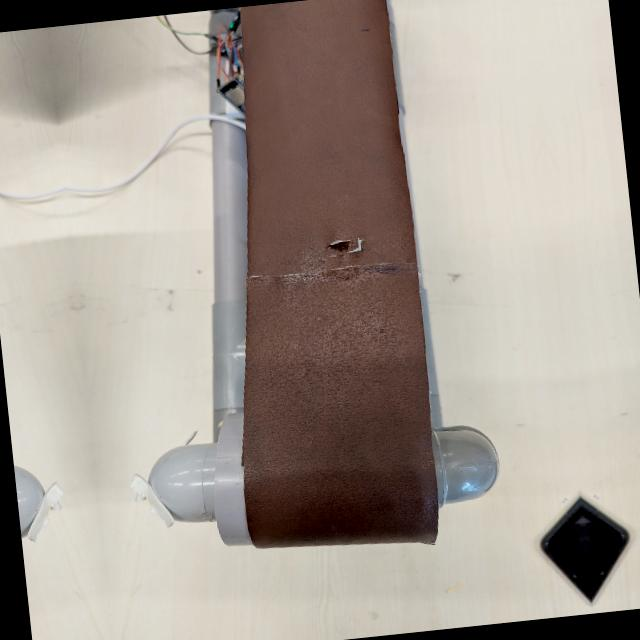joint_damage: (302, 213, 396, 282)
